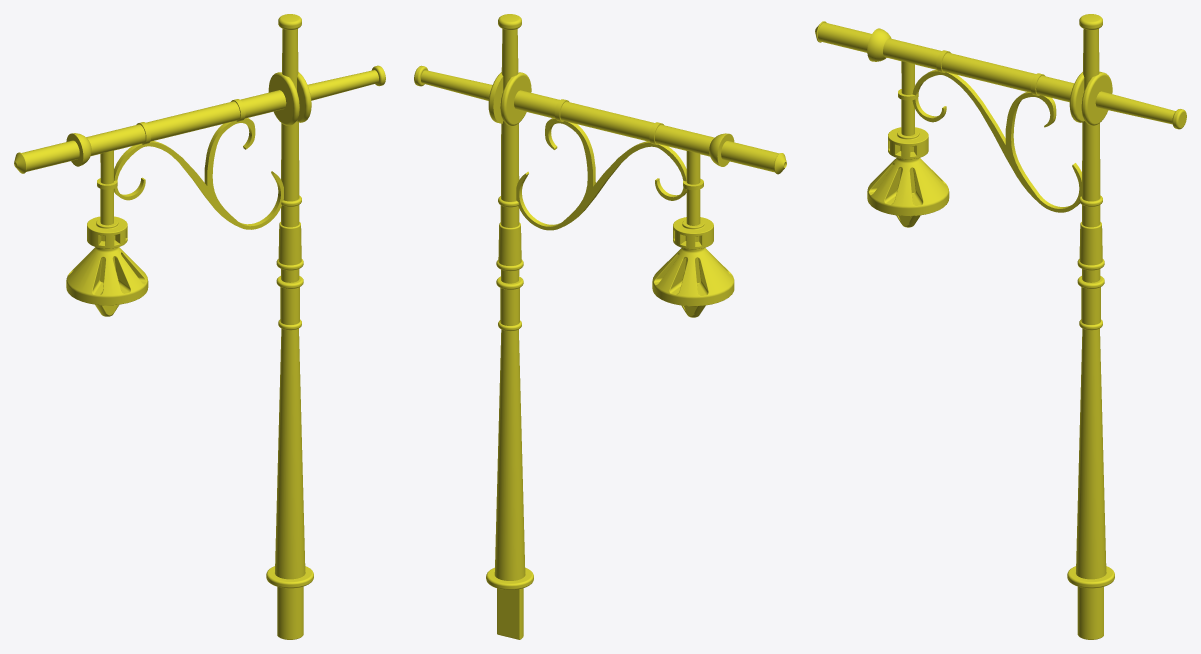
File: LAMP POST.fbx
3 renders of one model, left to right at view 1: azimuth 30°, elevation 25°; view 2: azimuth 150°, elevation 25°; view 3: azimuth 330°, elevation 25°, orthographic.
Visible parts, largest first — view 1: LAMP POST; view 2: LAMP POST; view 3: LAMP POST.
Boxes of the visible parts, x1,y1,x2,y2 form: LAMP POST: (14, 14, 385, 639); LAMP POST: (414, 14, 786, 639); LAMP POST: (815, 14, 1186, 639).
Size of the model in its own units: 9.85 by 15.88 by 1.9.
